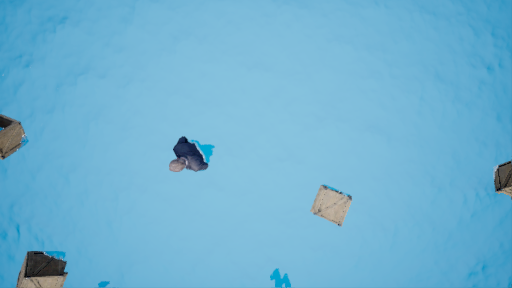person: (165, 137, 227, 180)
